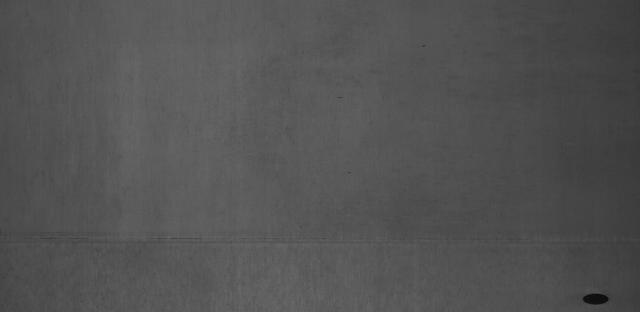punching_hole: (578, 285, 618, 309)
welding_line: (8, 232, 640, 254)
